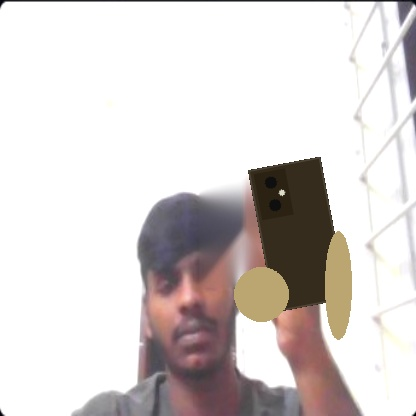cell_phone: (248, 156, 347, 312)
